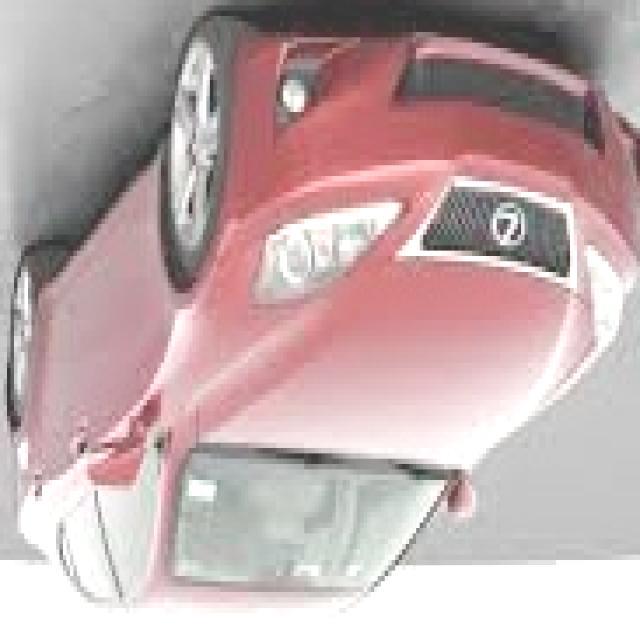maroon: (15, 45, 638, 628)
